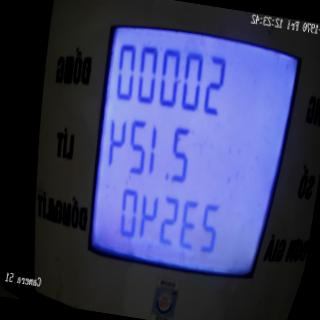screen: (69, 0, 310, 304)
